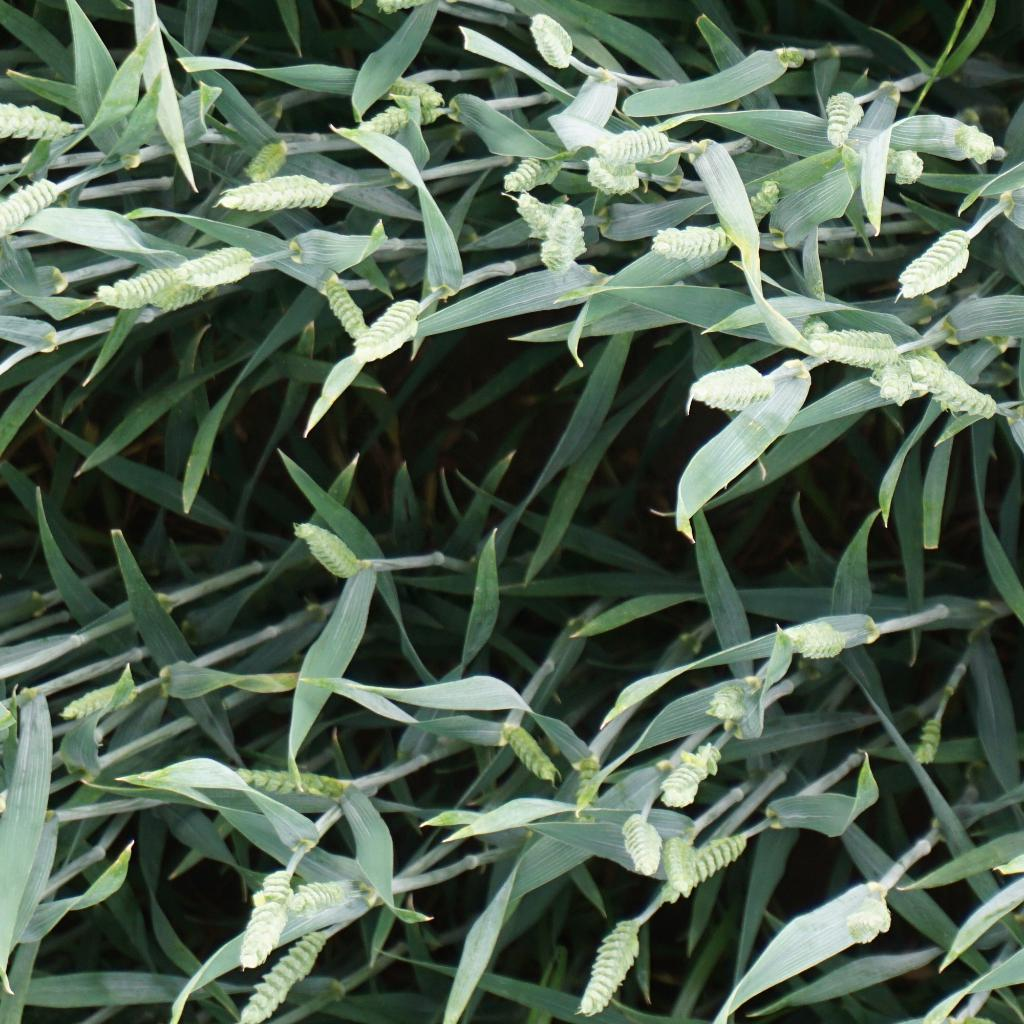0-0: (233, 931, 333, 1024), (893, 342, 1008, 421), (572, 919, 651, 1022), (659, 825, 764, 901), (892, 216, 980, 306), (238, 863, 299, 978), (350, 281, 419, 372), (275, 516, 368, 582), (681, 364, 791, 416), (92, 256, 195, 311), (209, 175, 347, 216), (803, 322, 918, 371), (310, 263, 375, 348), (252, 756, 364, 804), (658, 738, 728, 810), (57, 667, 150, 720), (173, 243, 266, 295), (593, 121, 690, 170), (537, 200, 591, 282), (0, 174, 71, 235), (772, 615, 851, 667), (339, 106, 456, 140), (0, 97, 81, 145), (493, 724, 557, 783), (644, 225, 739, 264), (562, 755, 611, 830), (499, 147, 573, 196), (615, 811, 668, 879), (814, 91, 876, 149), (581, 145, 645, 199), (660, 833, 706, 905), (527, 10, 580, 70), (156, 267, 221, 315), (368, 72, 451, 109), (285, 874, 368, 911), (871, 342, 916, 410), (244, 133, 299, 188), (843, 896, 900, 946), (508, 188, 560, 240), (942, 120, 999, 164), (904, 714, 948, 770), (701, 679, 756, 722), (883, 145, 928, 187), (743, 174, 778, 228), (787, 308, 833, 339)
